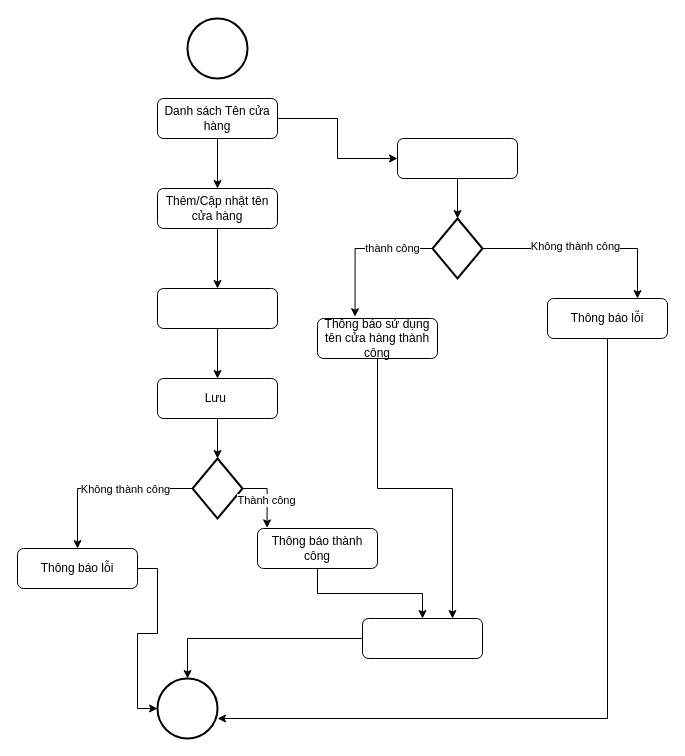
Image size: 685x756. Some labels were removed from this diagram. Here are the shapes that lost their labels. From the top down, the centre of each, then its label:
At pixel 457 158: "Sử dụng Tên cửa hàng mặc định".
At pixel 217 308: "Nhập dữ liệu".
At pixel 422 638: "Lấy lại danh sách Tên cửa hàng".
